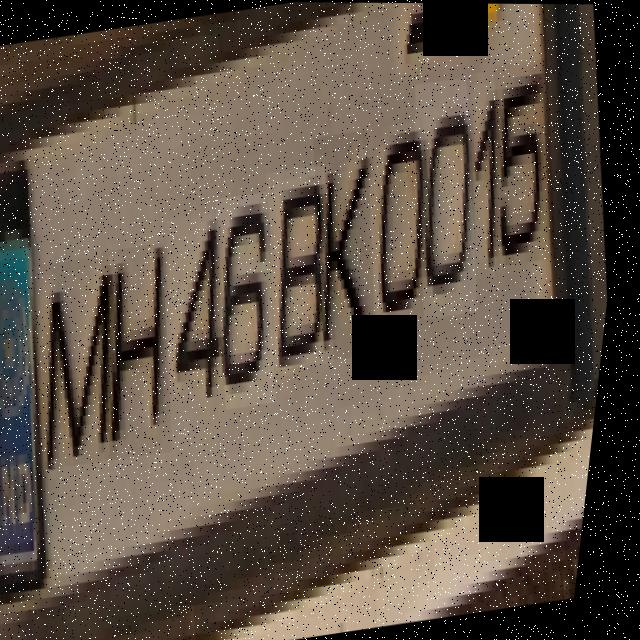0: (396, 76, 505, 319), (356, 112, 460, 329)
1: (450, 81, 528, 276)
4: (155, 212, 254, 402)
5: (478, 57, 579, 265)
6: (202, 191, 303, 409)
B: (253, 164, 360, 371)
H: (90, 242, 201, 461)
K: (297, 129, 405, 361)
M: (23, 254, 149, 469)
